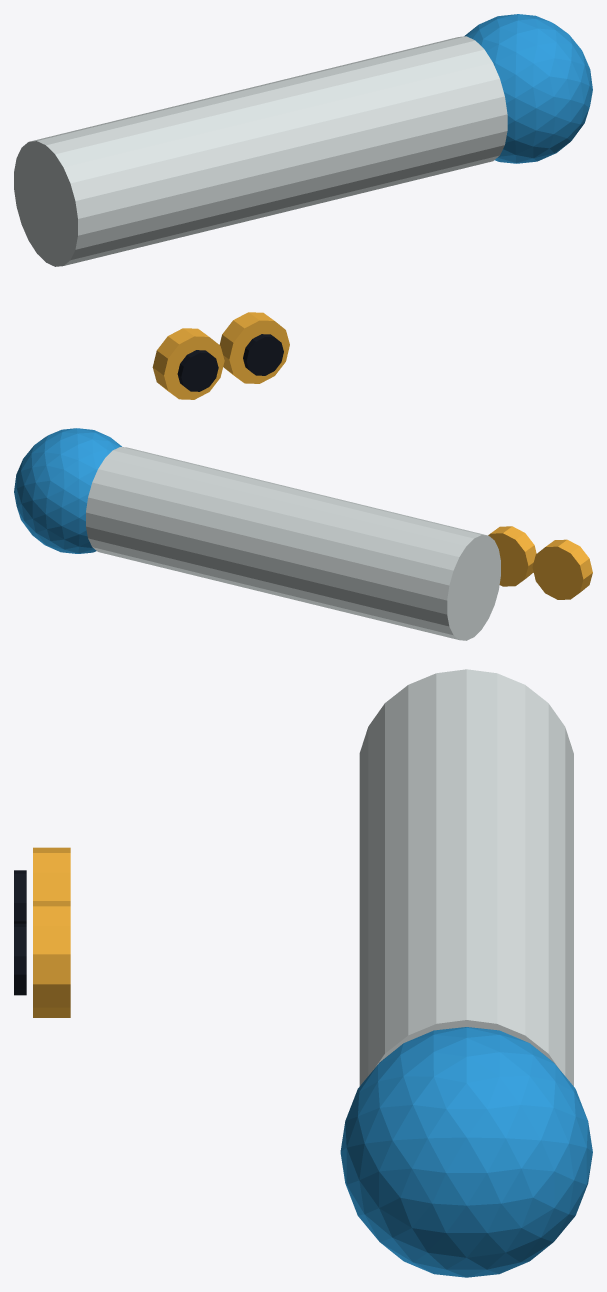
Rendered from 42_L86_VacuumCompatibleInspectionProbe.fbx.
3 renders of one model, top to bottom at view 1: azimuth 30°, elevation 25°; view 2: azimuth 150°, elevation 25°; view 3: azimuth 270°, elevation 25°, orthographic. The views are drawn at different scales.
Visible parts, largest first — view 1: L86_VacuumCompatibleInspectionProbe_Part_0000, L86_VacuumCompatibleInspectionProbe_Part_0001, L86_VacuumCompatibleInspectionProbe_Part_0002, L86_VacuumCompatibleInspectionProbe_Part_0004, L86_VacuumCompatibleInspectionProbe_Part_0005, L86_VacuumCompatibleInspectionProbe_Part_0003; view 2: L86_VacuumCompatibleInspectionProbe_Part_0000, L86_VacuumCompatibleInspectionProbe_Part_0001, L86_VacuumCompatibleInspectionProbe_Part_0002, L86_VacuumCompatibleInspectionProbe_Part_0004; view 3: L86_VacuumCompatibleInspectionProbe_Part_0000, L86_VacuumCompatibleInspectionProbe_Part_0001, L86_VacuumCompatibleInspectionProbe_Part_0004, L86_VacuumCompatibleInspectionProbe_Part_0002, L86_VacuumCompatibleInspectionProbe_Part_0005.
Boxes of the visible parts, x1=… form: L86_VacuumCompatibleInspectionProbe_Part_0000: x1=14, y1=36, x2=507, y2=266; L86_VacuumCompatibleInspectionProbe_Part_0001: x1=464, y1=14, x2=592, y2=163; L86_VacuumCompatibleInspectionProbe_Part_0002: x1=152, y1=328, x2=224, y2=399; L86_VacuumCompatibleInspectionProbe_Part_0004: x1=219, y1=312, x2=289, y2=383; L86_VacuumCompatibleInspectionProbe_Part_0005: x1=243, y1=334, x2=283, y2=375; L86_VacuumCompatibleInspectionProbe_Part_0003: x1=177, y1=350, x2=218, y2=391; L86_VacuumCompatibleInspectionProbe_Part_0000: x1=86, y1=447, x2=500, y2=640; L86_VacuumCompatibleInspectionProbe_Part_0001: x1=14, y1=428, x2=121, y2=553; L86_VacuumCompatibleInspectionProbe_Part_0002: x1=532, y1=539, x2=592, y2=599; L86_VacuumCompatibleInspectionProbe_Part_0004: x1=488, y1=526, x2=536, y2=586; L86_VacuumCompatibleInspectionProbe_Part_0000: x1=359, y1=669, x2=573, y2=1086; L86_VacuumCompatibleInspectionProbe_Part_0001: x1=340, y1=1027, x2=592, y2=1277; L86_VacuumCompatibleInspectionProbe_Part_0004: x1=33, y1=901, x2=70, y2=1017; L86_VacuumCompatibleInspectionProbe_Part_0002: x1=33, y1=847, x2=70, y2=900; L86_VacuumCompatibleInspectionProbe_Part_0005: x1=14, y1=923, x2=26, y2=995.
Bounding box in the file's own units: 118 × 35.62 × 64.2.
